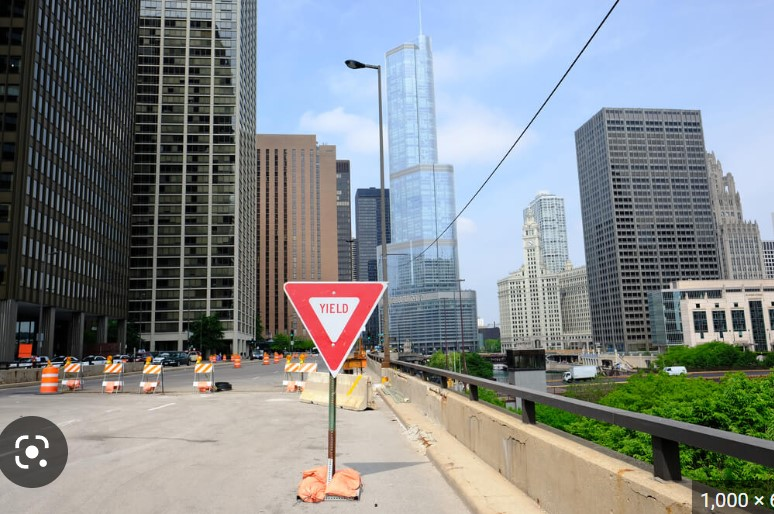Yeild: (278, 277, 393, 377)
